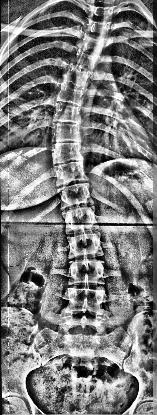Vertebrae: (66, 286, 108, 318), (59, 206, 101, 236), (66, 255, 108, 285), (64, 232, 106, 260), (55, 183, 95, 211), (53, 80, 89, 108), (54, 160, 90, 188), (50, 141, 86, 167), (72, 49, 104, 74), (52, 101, 84, 125), (51, 121, 83, 145), (62, 64, 90, 90), (76, 32, 106, 56), (82, 15, 111, 37), (86, 3, 114, 22)
